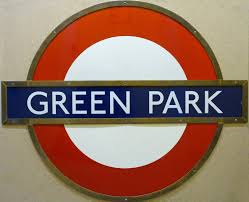London Underground: (3, 3, 242, 194)
